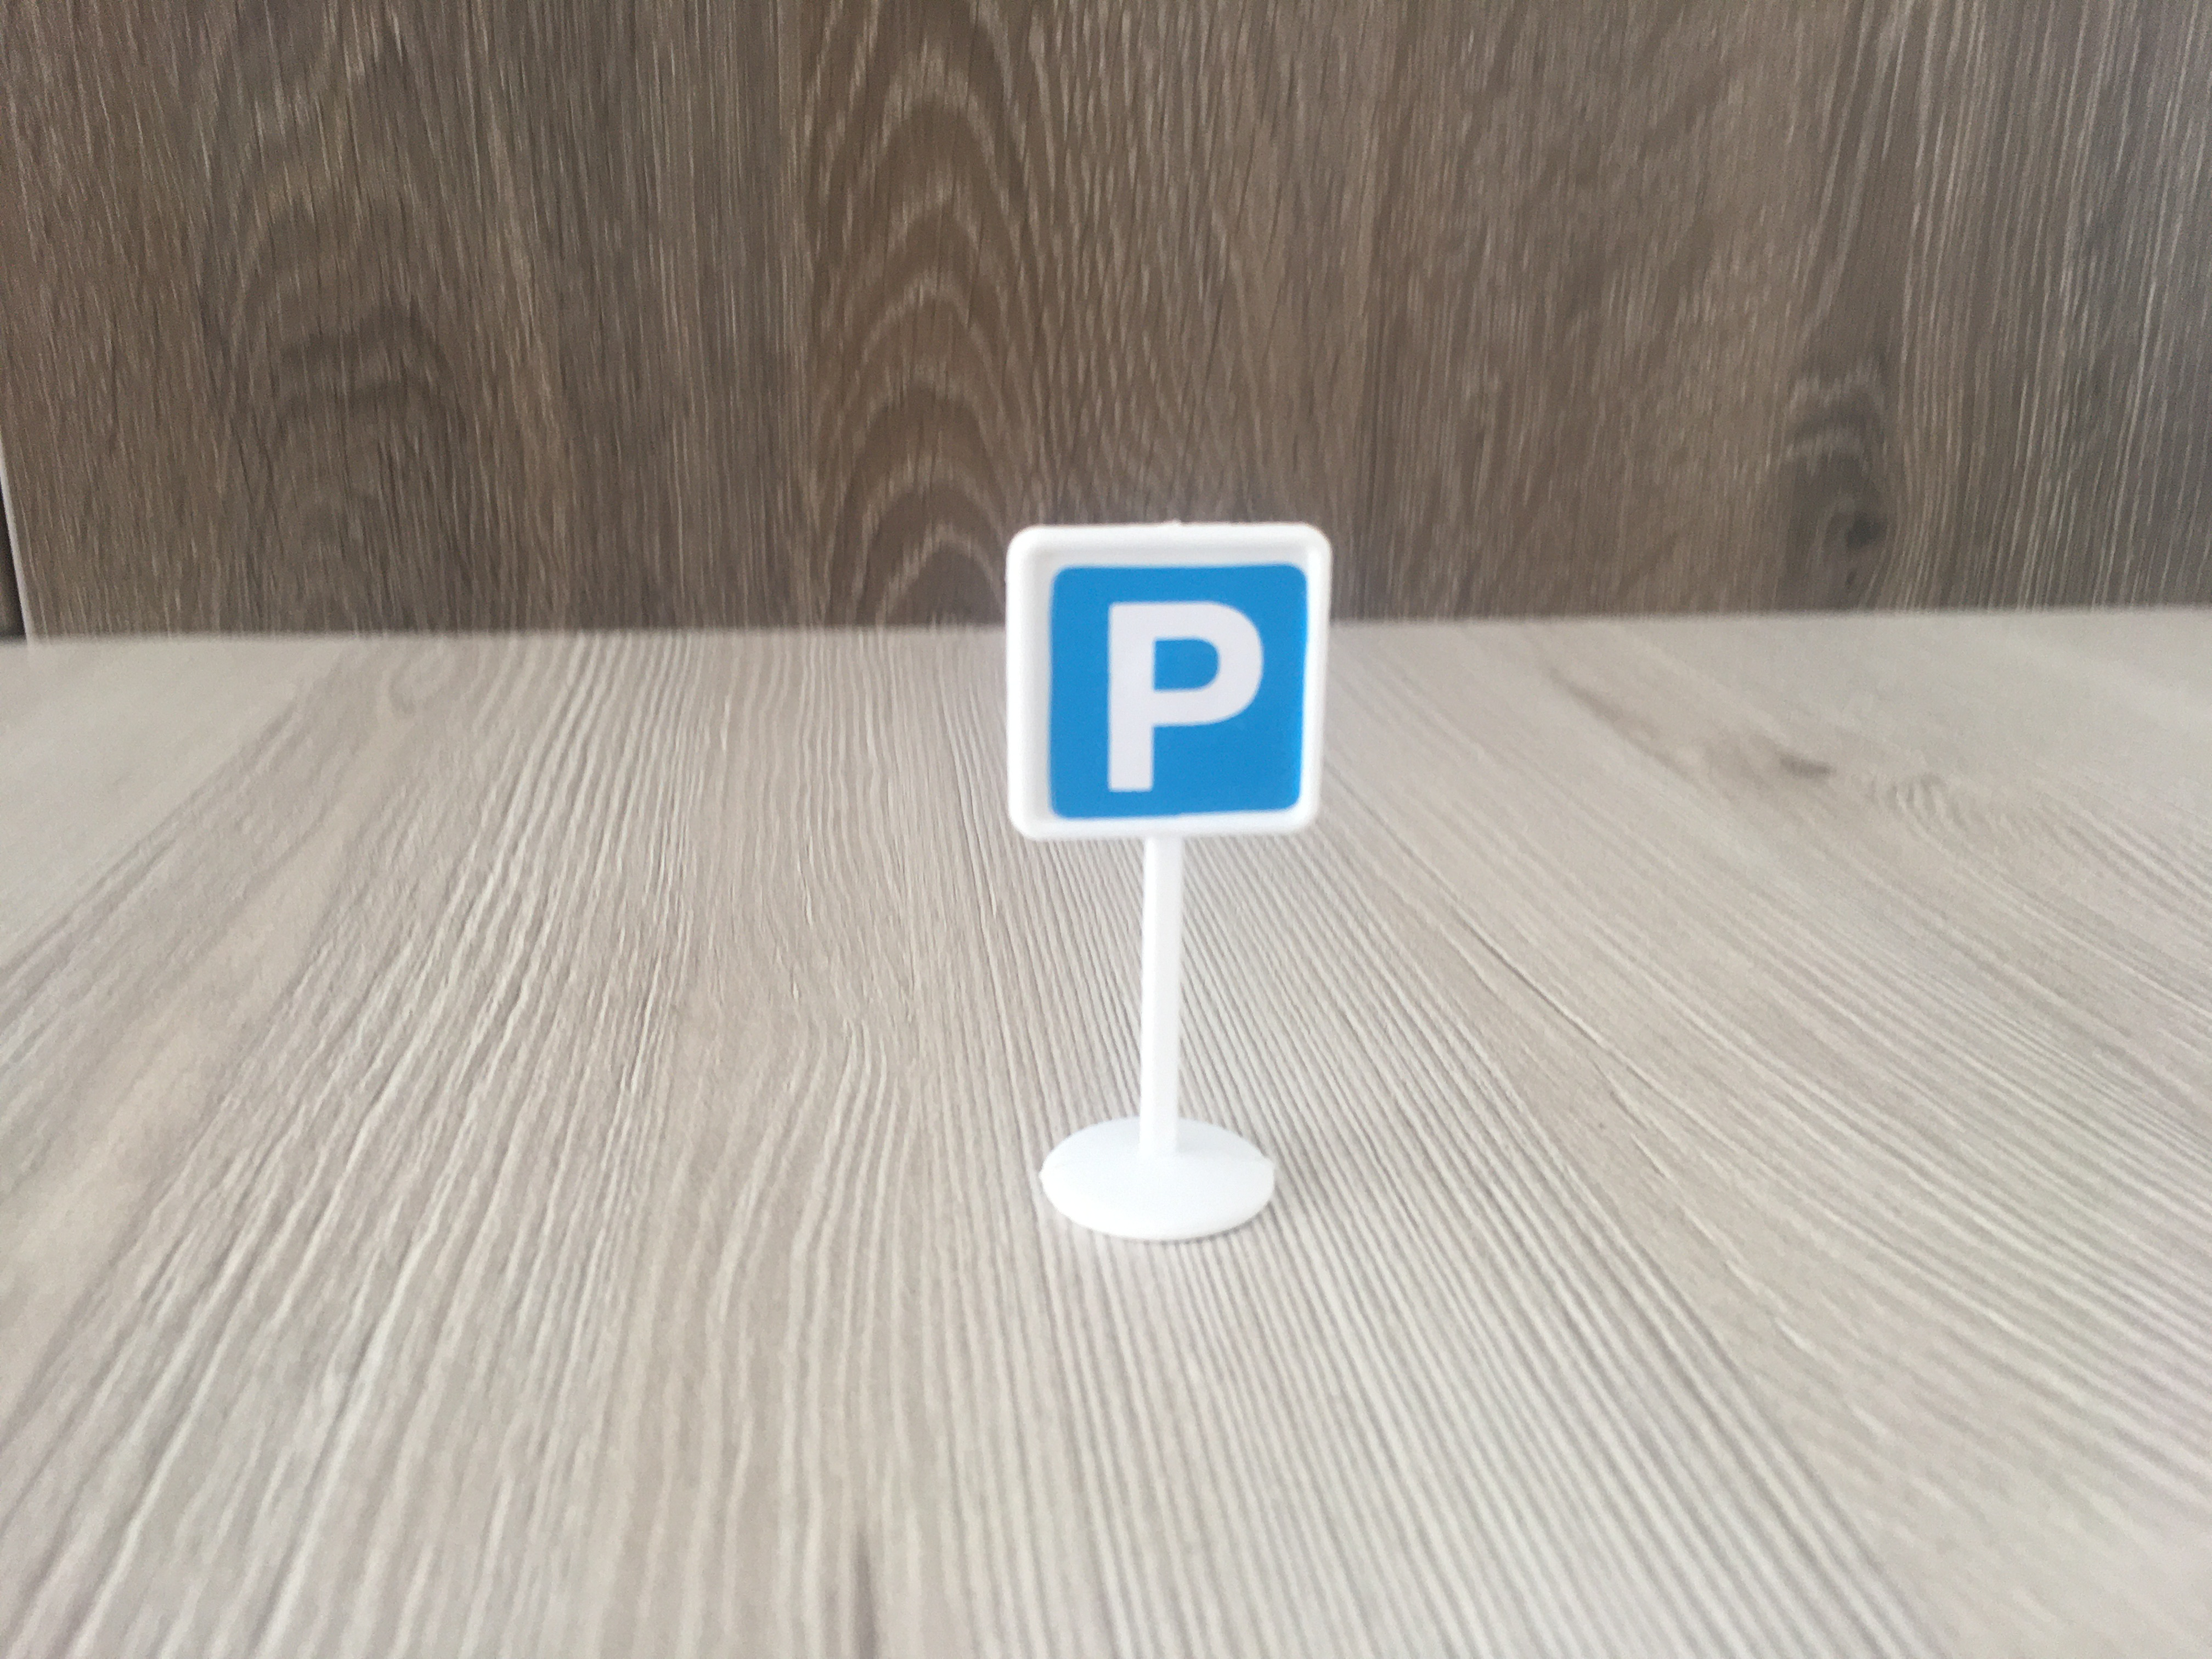parking: (996, 521, 1338, 840)
